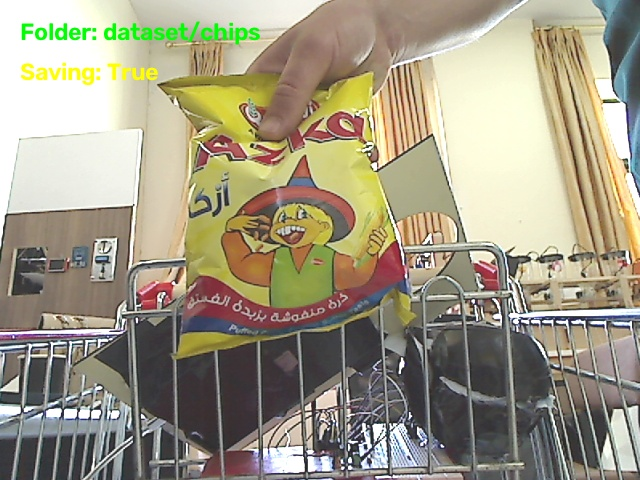chips: (161, 74, 411, 357)
